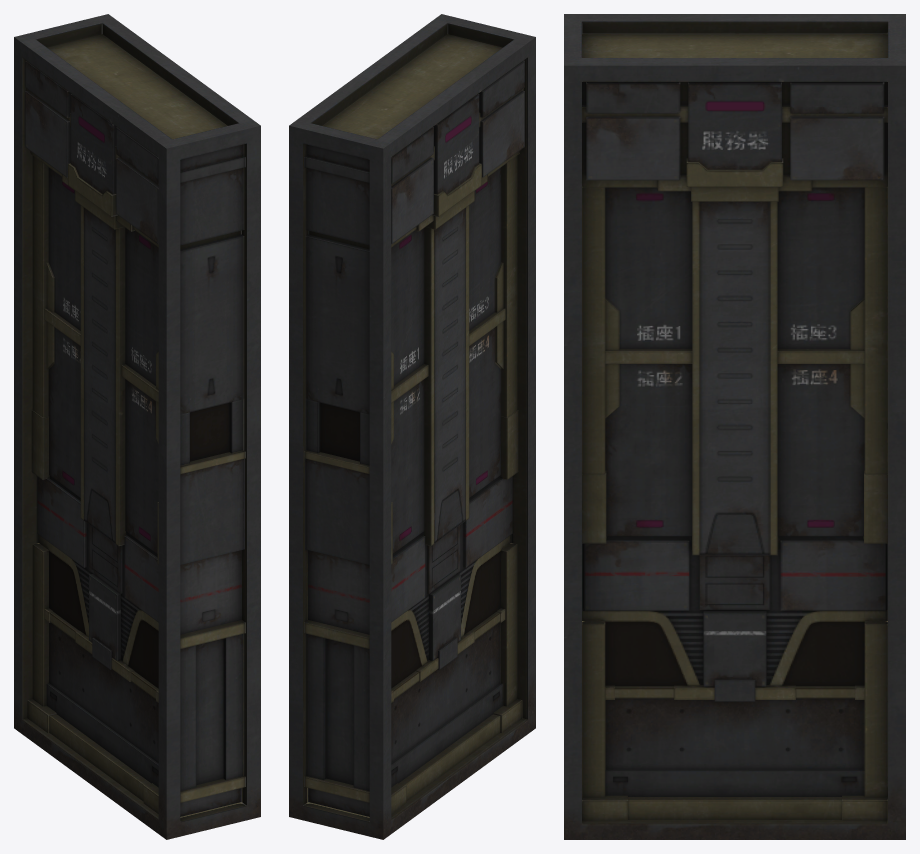
Rendered from server_data_high.DAE.
3 views of the same model, side by side, from view 1: azimuth 30°, elevation 25°; view 2: azimuth 150°, elevation 25°; view 3: azimuth 270°, elevation 25° (orthographic). The views are drawn at different scales.
Parts seen in each view (by area): view 1: server_data_high; view 2: server_data_high; view 3: server_data_high.
Part boxes in pixels (box(x1,y1,x2,y2)): server_data_high: box(14, 14, 260, 839); server_data_high: box(289, 14, 535, 839); server_data_high: box(564, 14, 905, 839).
Size of the model in its own units: 50.66 by 140 by 350.
